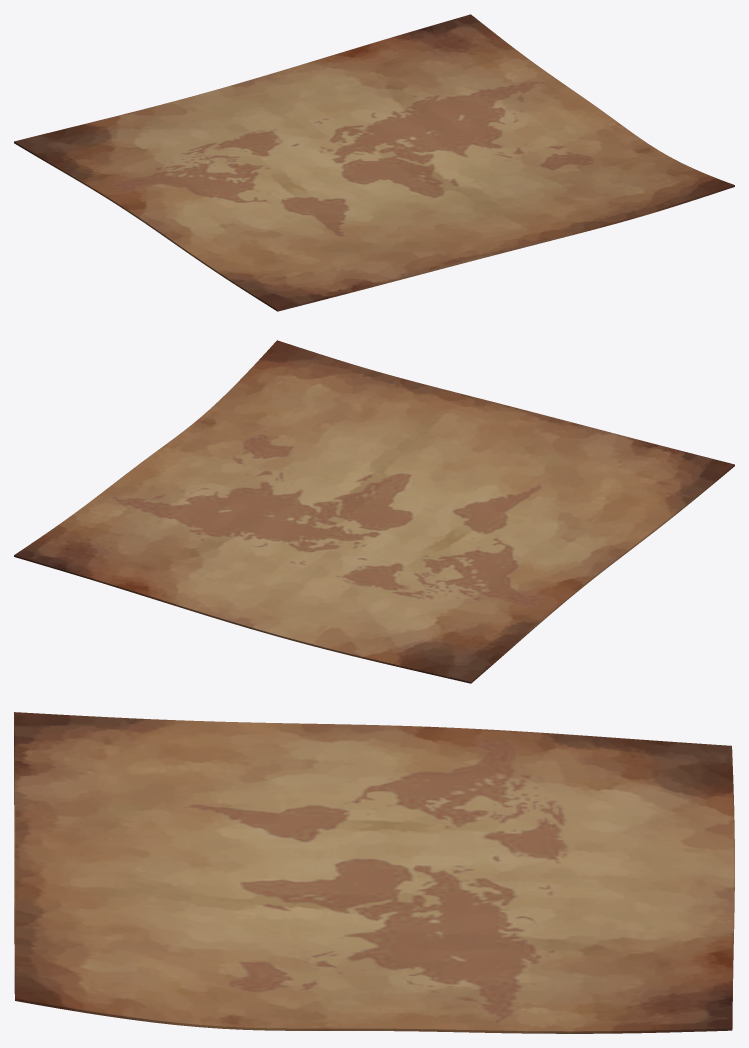
The model's file is vintage_map_parchment.glb.
3 renders of one model, top to bottom at view 1: azimuth 30°, elevation 25°; view 2: azimuth 150°, elevation 25°; view 3: azimuth 270°, elevation 25°, orthographic. The views are drawn at different scales.
Visible parts, largest first — view 1: Object_2; view 2: Object_2; view 3: Object_2.
Boxes of the visible parts, left/top/right/bottom form: Object_2: left=14, top=14, right=734, bottom=311; Object_2: left=14, top=340, right=734, bottom=683; Object_2: left=14, top=712, right=734, bottom=1033.
Size of the model in its own units: 2 by 0.1663 by 2.01.
1 material, 1 textured.
